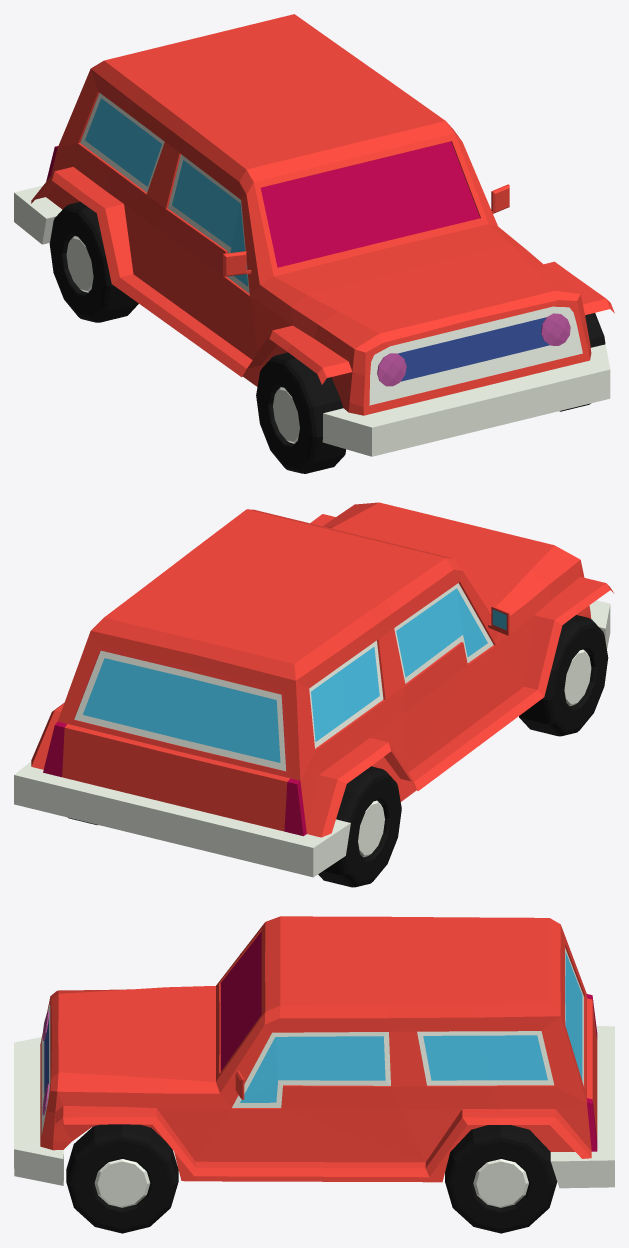
Rendered from car4.glb.
The picture shows the model from 3 angles, top to bottom: view 1: azimuth 30°, elevation 25°; view 2: azimuth 150°, elevation 25°; view 3: azimuth 270°, elevation 25°; orthographic projection. The views are drawn at different scales.
Parts seen in each view (by area): view 1: Boole, tire1.006, tire2.004; view 2: Boole, tire1.006, tire2.004; view 3: Boole, tire1.006, tire2.004.
Part boxes in pixels (x1=…): Boole: x1=14, y1=14, x2=614, y2=456; tire1.006: x1=256, y1=313, x2=605, y2=473; tire2.004: x1=49, y1=201, x2=138, y2=322; Boole: x1=14, y1=502, x2=614, y2=877; tire1.006: x1=519, y1=615, x2=608, y2=736; tire2.004: x1=68, y1=766, x2=401, y2=887; Boole: x1=14, y1=916, x2=614, y2=1188; tire1.006: x1=66, y1=1124, x2=178, y2=1233; tire2.004: x1=445, y1=1125, x2=557, y2=1233.
Size of the model in its own units: 2.34 by 1.66 by 4.33.
